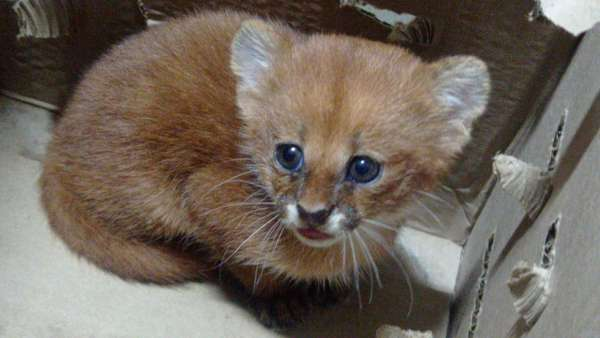Jaguarundi: (38, 7, 477, 306)
